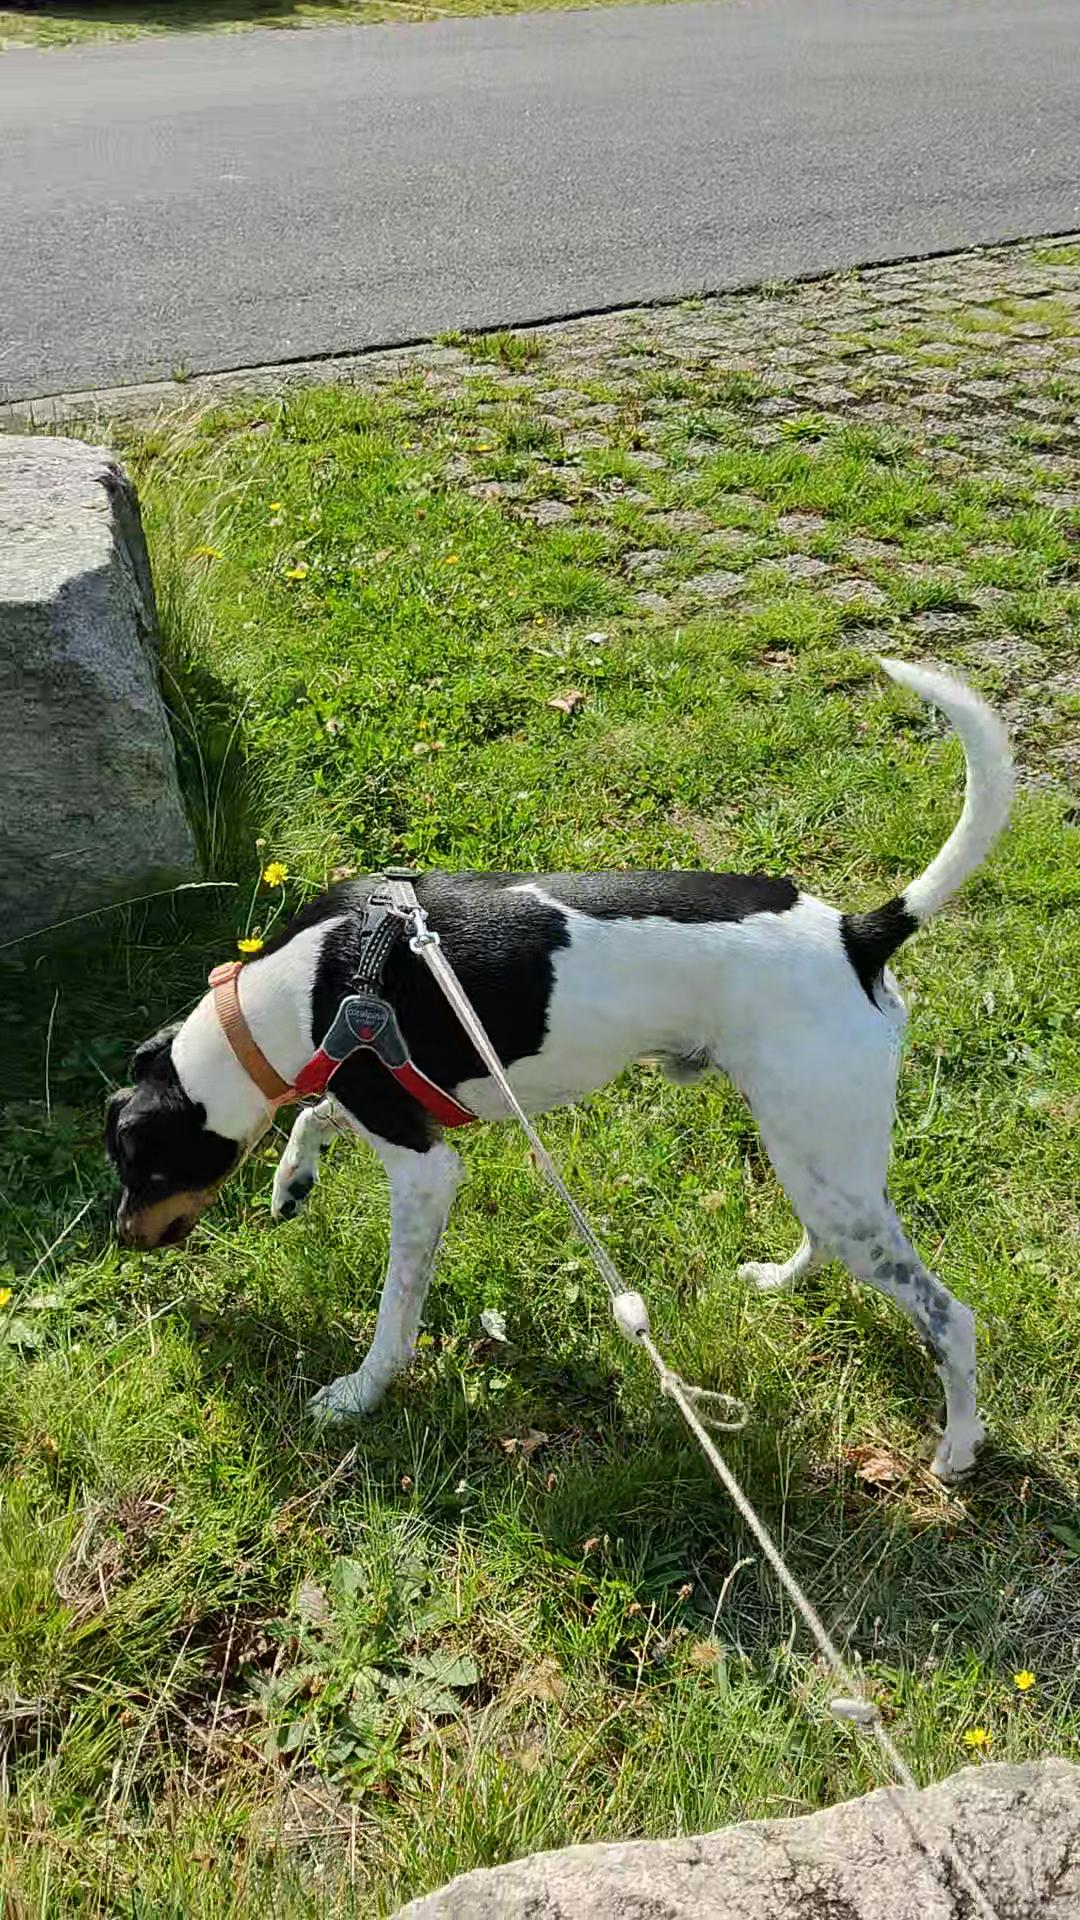Dog: (67, 640, 1031, 1491)
